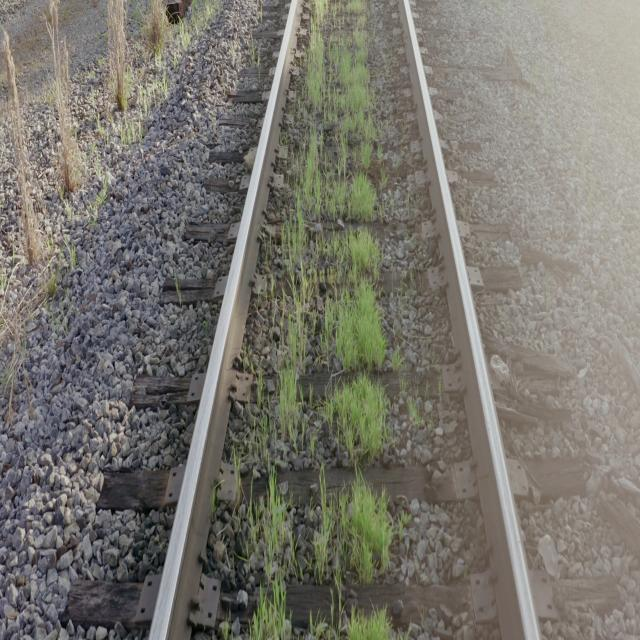Plant: (279, 2, 388, 467), (311, 471, 392, 587), (250, 469, 289, 638), (349, 607, 390, 638)
